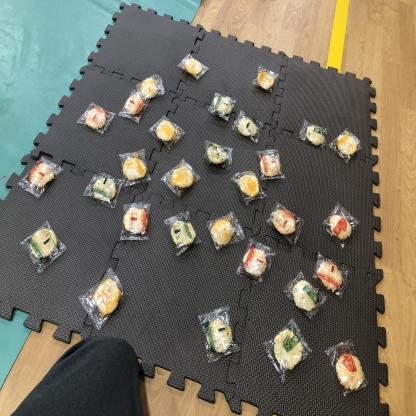green_setoshio: (267, 321, 312, 373), (200, 306, 239, 363), (25, 222, 63, 272), (164, 209, 201, 255), (284, 277, 324, 319), (84, 166, 118, 205), (205, 139, 234, 172), (302, 117, 330, 150), (235, 112, 265, 142), (208, 92, 236, 124)
red_setoshio: (330, 338, 369, 398), (316, 250, 351, 292), (270, 201, 302, 245), (26, 157, 61, 196), (242, 240, 273, 283), (327, 203, 357, 244), (256, 146, 286, 183), (82, 100, 113, 135), (122, 202, 152, 238), (120, 97, 148, 122)
yellow_setoshio: (84, 270, 128, 325), (208, 212, 241, 250), (166, 159, 202, 193), (150, 113, 183, 149), (233, 166, 263, 203), (334, 126, 362, 162), (179, 52, 210, 82), (123, 151, 150, 183), (138, 72, 166, 98), (255, 64, 278, 94)
